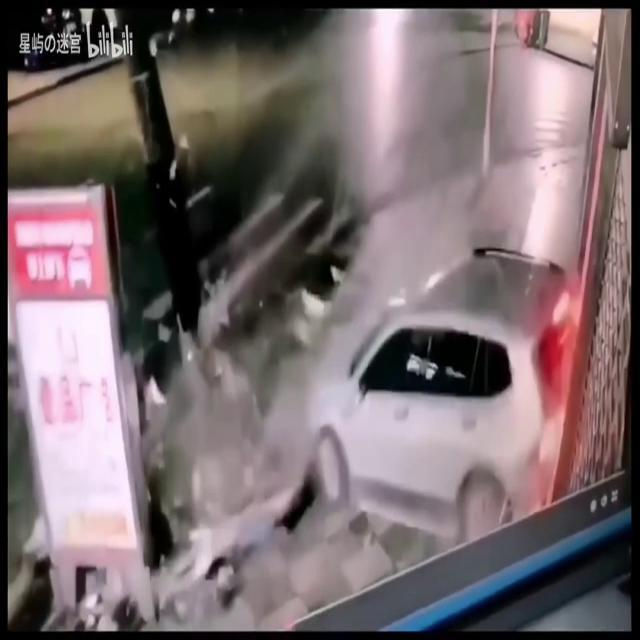single accident: (42, 205, 614, 627)
